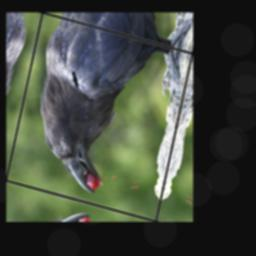Crow: (18, 16, 191, 212)
